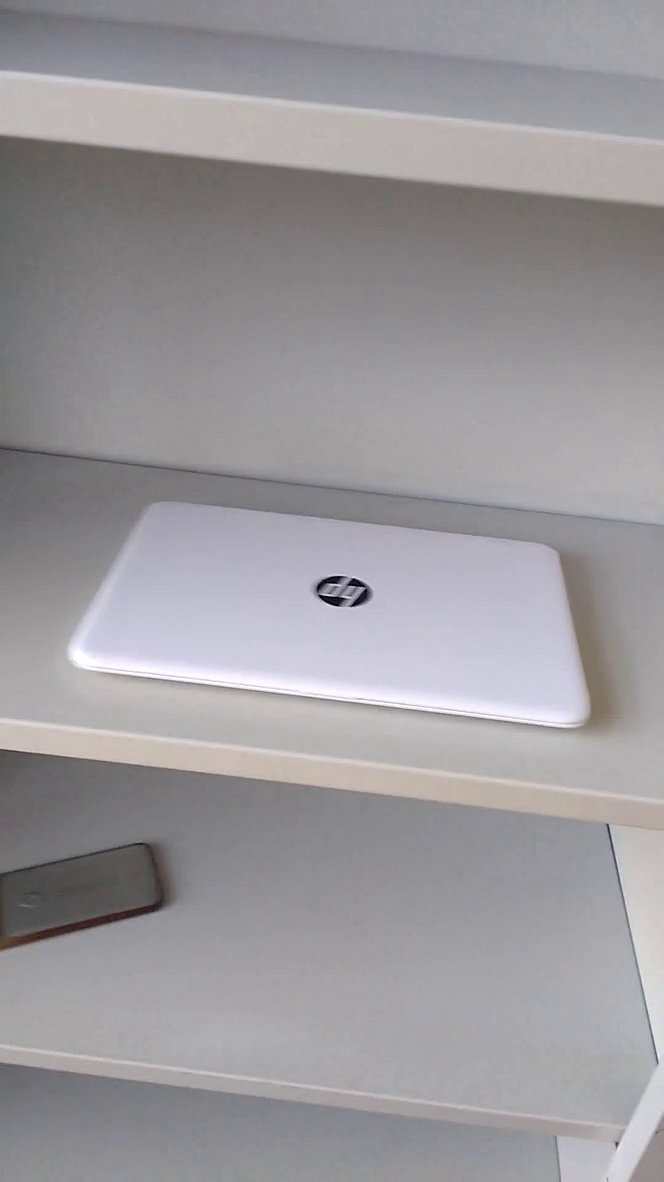laptop: (41, 476, 626, 751)
phone: (1, 822, 177, 964)
